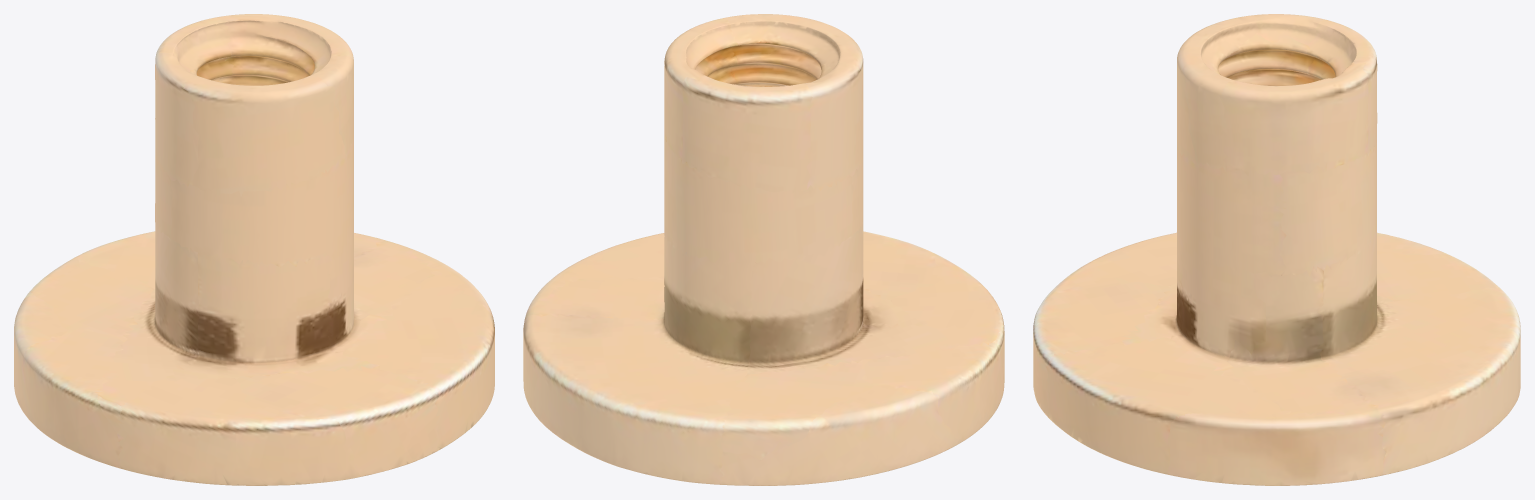
The model's file is kyn3d-tornillo-hembra.glb.
The picture shows the model from 3 angles, left to right: view 1: azimuth 30°, elevation 25°; view 2: azimuth 150°, elevation 25°; view 3: azimuth 270°, elevation 25°; orthographic projection.
Bounding box in the file's own units: 0.0132 × 0.01 × 0.0133.
1 material, 1 textured.
